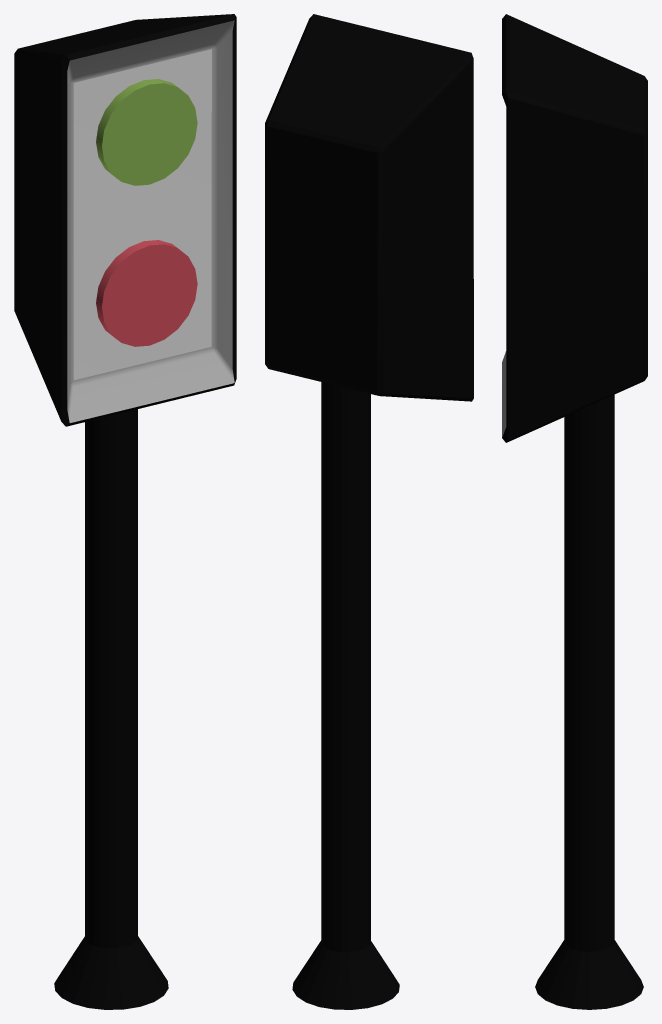
File: light.fbx
3 renders of one model, left to right at view 1: azimuth 30°, elevation 25°; view 2: azimuth 150°, elevation 25°; view 3: azimuth 270°, elevation 25°, orthographic. The views are drawn at different scales.
Parts seen in each view (by area): view 1: pCube2, pCylinder3, pCylinder1, pCylinder2; view 2: pCube2, pCylinder3; view 3: pCube2, pCylinder3.
Boxes of the visible parts, bbox=[...] form: pCube2: bbox=[14, 14, 236, 426]; pCylinder3: bbox=[54, 409, 168, 1009]; pCylinder1: bbox=[96, 79, 197, 185]; pCylinder2: bbox=[96, 240, 197, 346]; pCube2: bbox=[265, 14, 473, 401]; pCylinder3: bbox=[292, 382, 399, 1009]; pCube2: bbox=[502, 14, 647, 442]; pCylinder3: bbox=[535, 394, 643, 1009].
Bounding box in the file's own units: 28.97 × 156 × 22.07.
